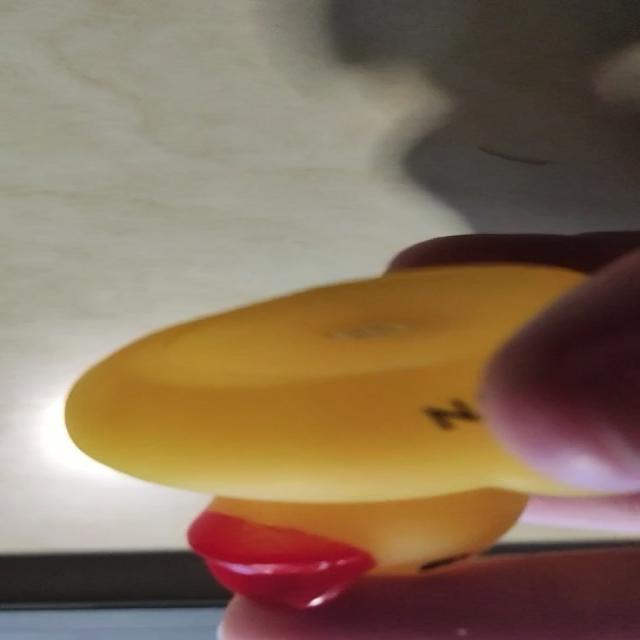rubber-duck: (65, 264, 638, 604), (565, 294, 638, 418)
